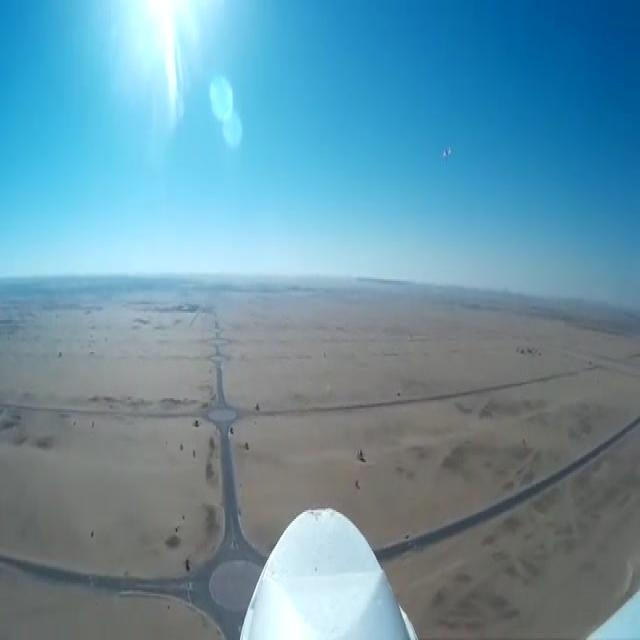iha: (444, 140, 450, 165)
